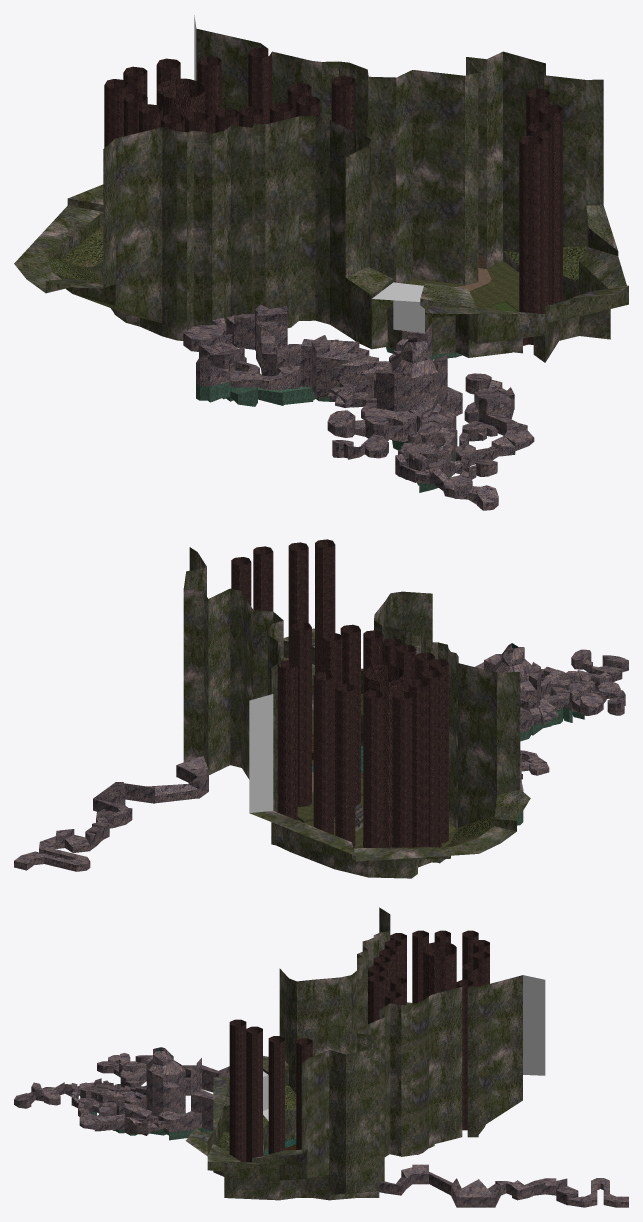
File: Surefall Glade.fbx
3 renders of one model, top to bottom at view 1: azimuth 30°, elevation 25°; view 2: azimuth 150°, elevation 25°; view 3: azimuth 270°, elevation 25°, orthographic. The views are drawn at different scales.
Visible parts, largest first — view 1: zoneSurefallGlade, WaterUnderwaterAreas; view 2: zoneSurefallGlade, WaterUnderwaterAreas; view 3: zoneSurefallGlade, WaterUnderwaterAreas.
Boxes of the visible parts, left/top/right/bottom form: zoneSurefallGlade: left=14, top=15, right=628, bottom=510; WaterUnderwaterAreas: left=196, top=347, right=462, bottom=492; zoneSurefallGlade: left=14, top=539, right=628, bottom=878; WaterUnderwaterAreas: left=517, top=707, right=584, bottom=825; zoneSurefallGlade: left=14, top=907, right=628, bottom=1207; WaterUnderwaterAreas: left=90, top=1111, right=213, bottom=1140.
Size of the model in its own units: 994 by 464 by 1555.
